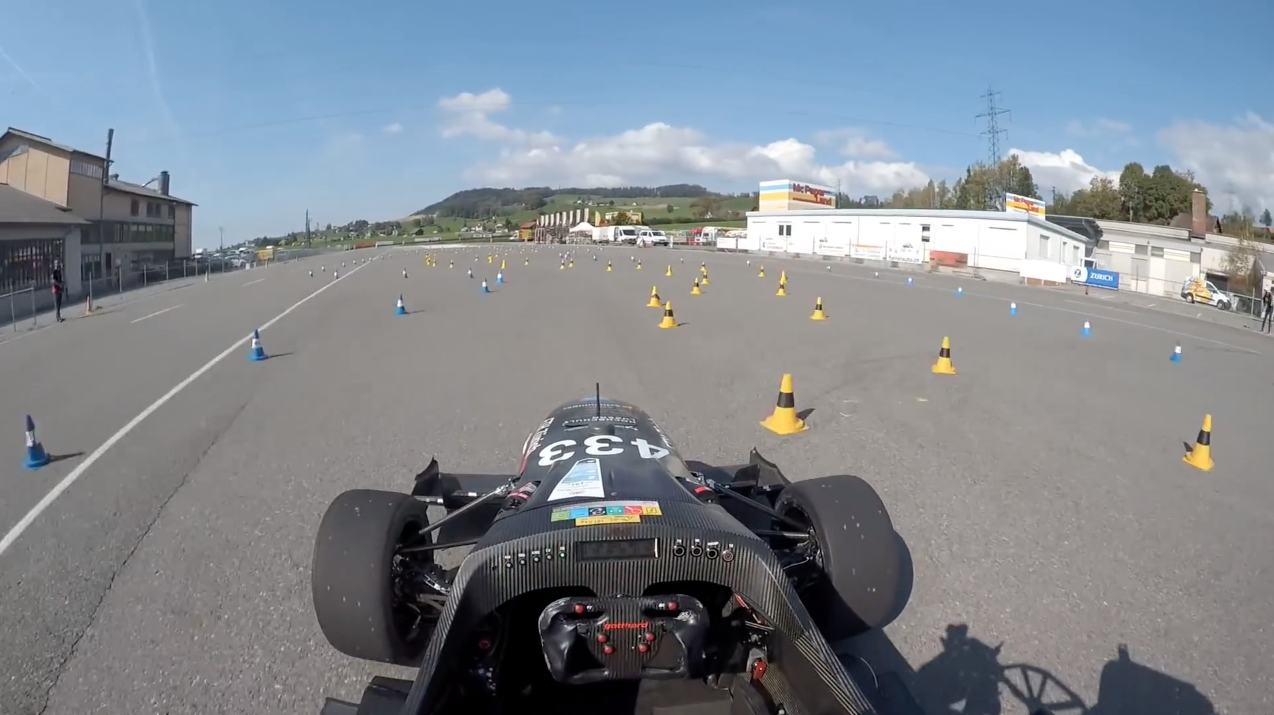lcone: (12, 416, 58, 473), (245, 325, 271, 363), (393, 292, 410, 316)
rcone: (758, 367, 812, 437), (1174, 411, 1222, 474), (928, 333, 960, 378), (656, 298, 680, 332), (809, 295, 829, 321), (645, 284, 663, 307)
